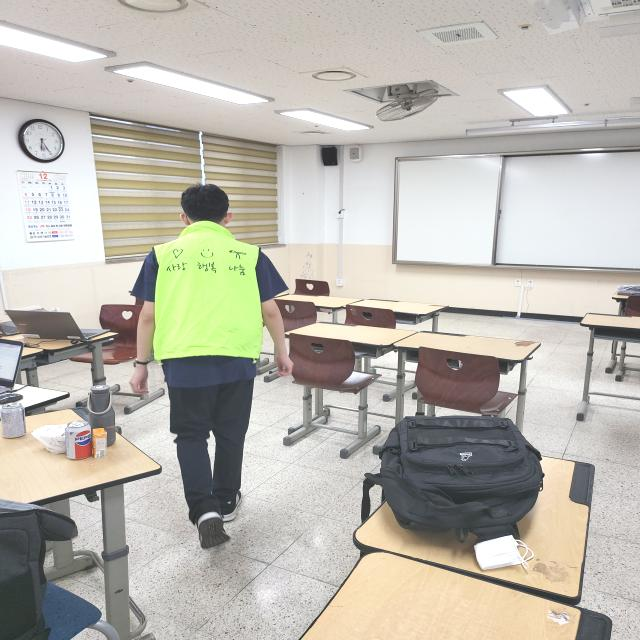weston_spy: (128, 215, 282, 377)
